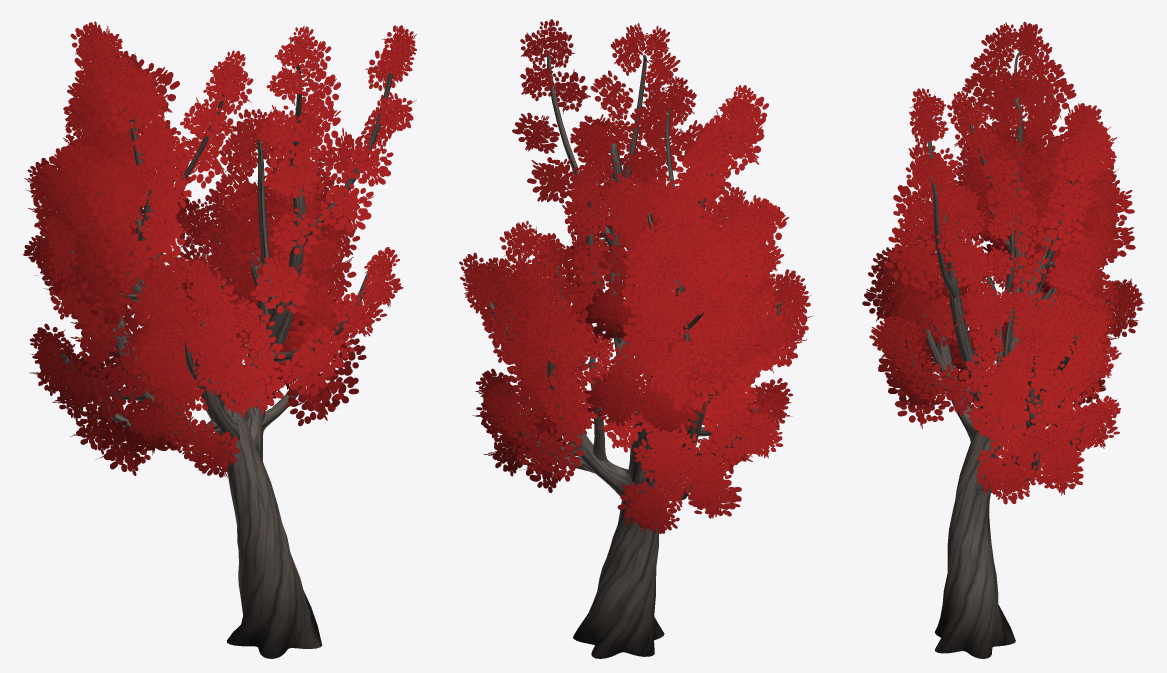
File: tree_twisted.glb
The picture shows the model from 3 angles, left to right: view 1: azimuth 30°, elevation 25°; view 2: azimuth 150°, elevation 25°; view 3: azimuth 270°, elevation 25°; orthographic projection. The views are drawn at different scales.
Visible parts, largest first — view 1: TwistedTree_2; view 2: TwistedTree_2; view 3: TwistedTree_2.
Boxes of the visible parts, x1,y1,x2,y2 form: TwistedTree_2: (23, 21, 416, 658); TwistedTree_2: (459, 19, 814, 658); TwistedTree_2: (862, 21, 1144, 658).
Size of the model in its own units: 10.56 by 18.95 by 9.2.
Materials: 2 (2 with a texture image).
